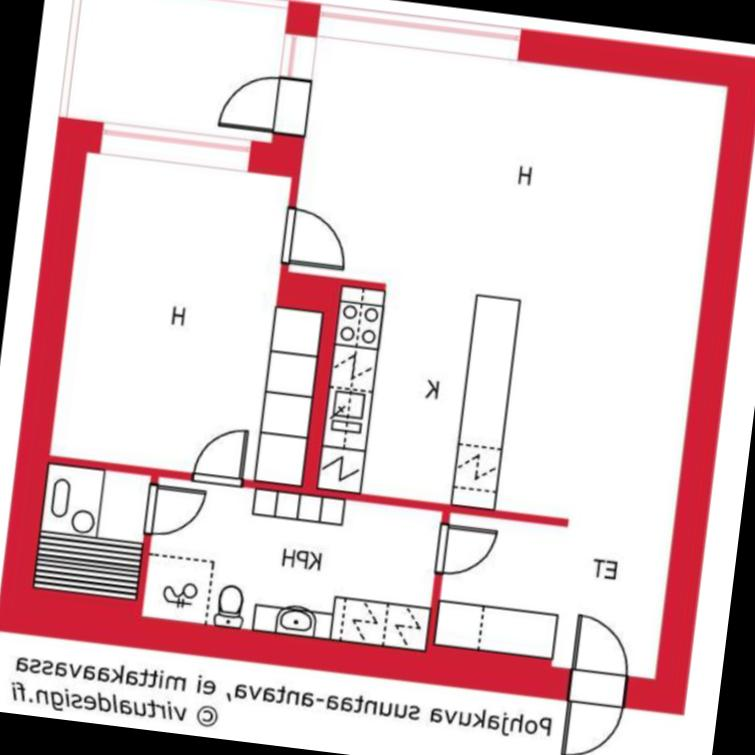door: (211, 66, 319, 140), (554, 665, 630, 755), (562, 612, 632, 705), (268, 202, 352, 272), (427, 516, 504, 583), (135, 476, 210, 543), (187, 419, 252, 489)
window: (304, 0, 533, 66), (91, 115, 261, 181), (276, 21, 322, 84)
